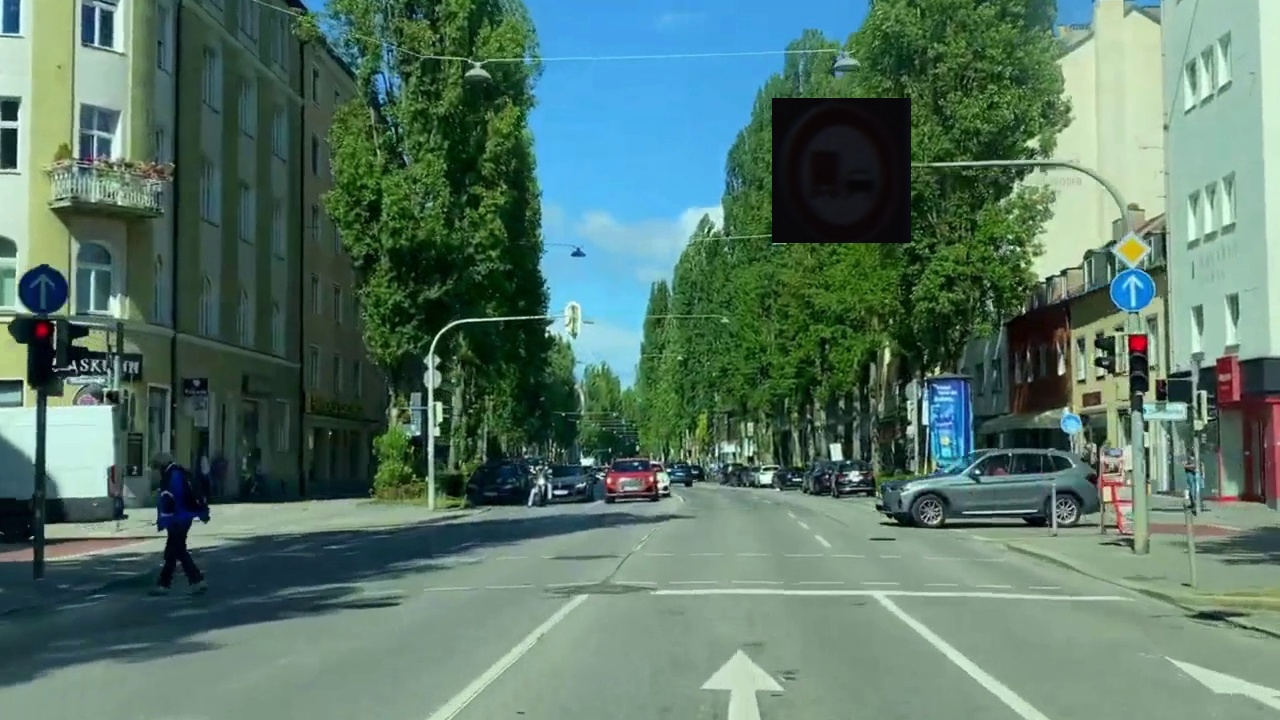No pass >3.5t: (772, 98, 911, 243)
